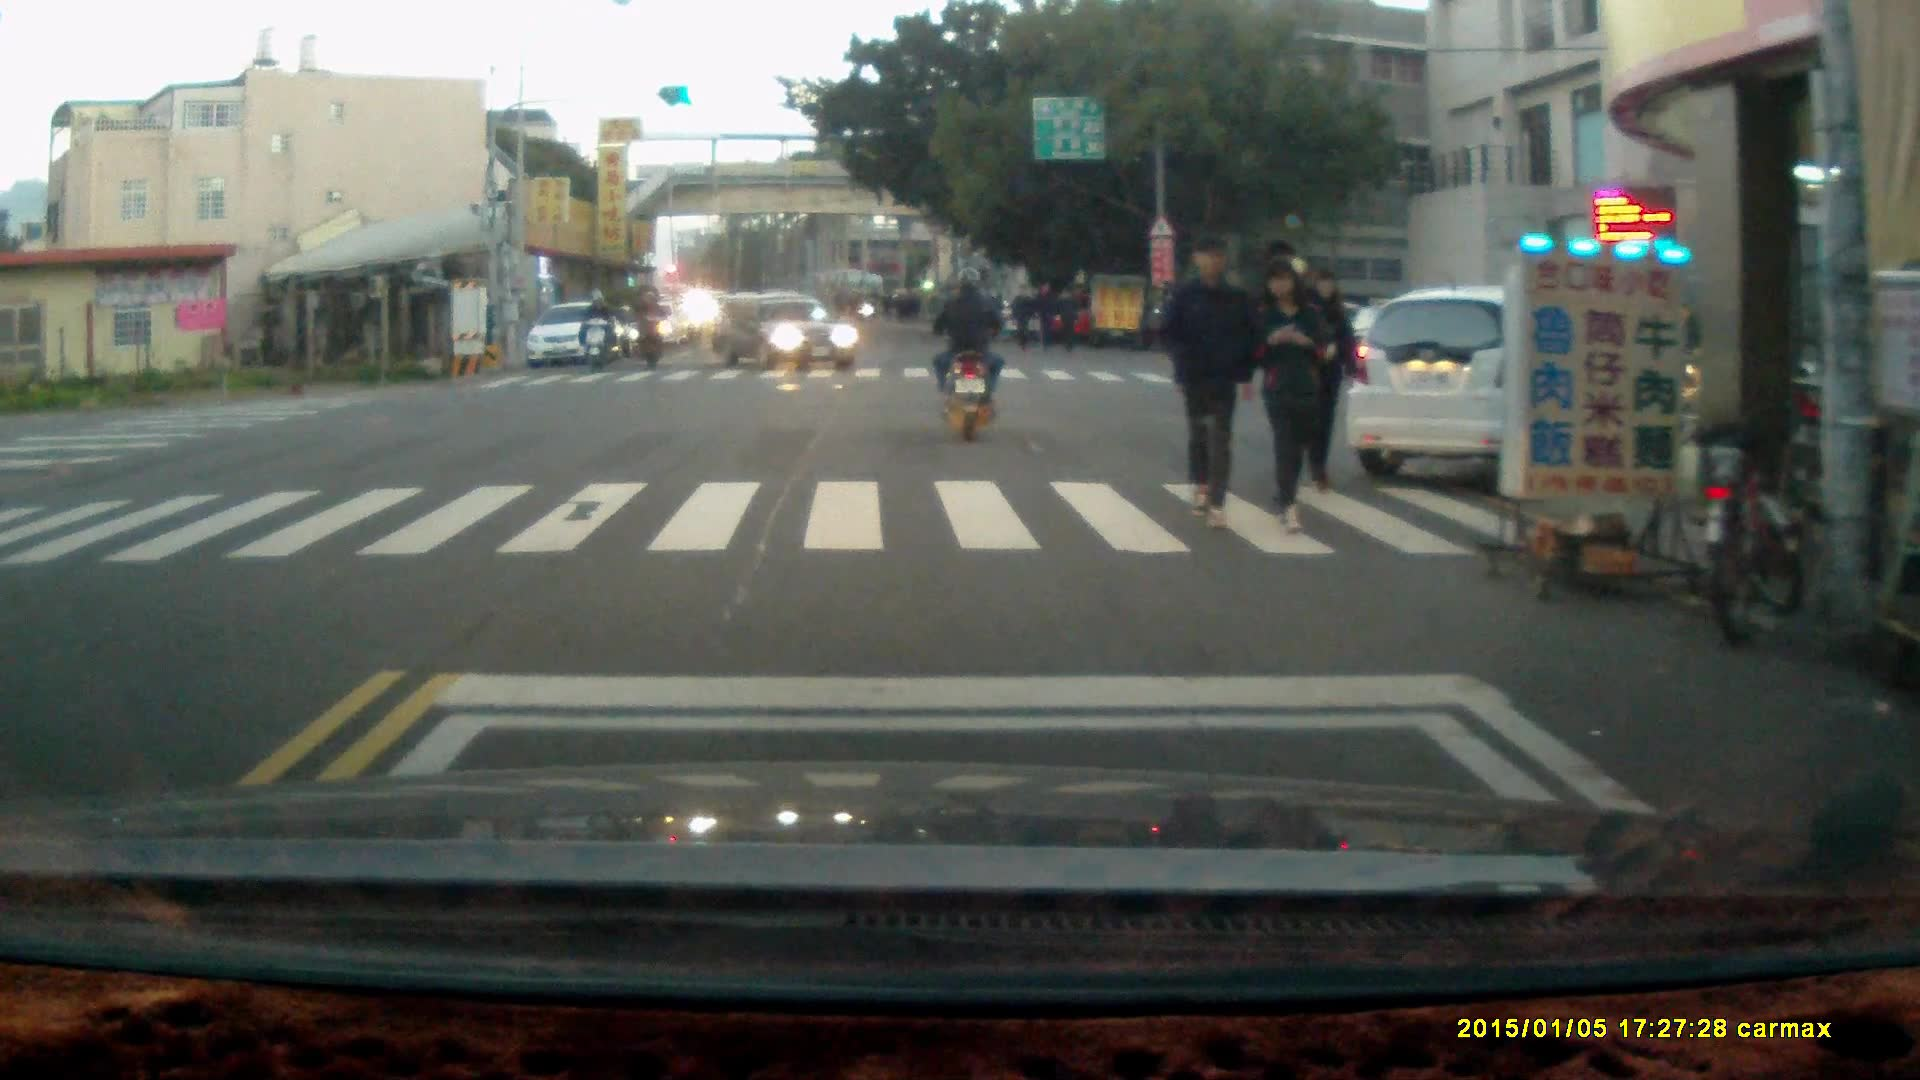pedestrian: (1157, 228, 1255, 529), (1251, 253, 1330, 529), (1671, 298, 1700, 388), (1052, 284, 1081, 353), (1032, 275, 1059, 352), (1010, 279, 1035, 349)
rider: (933, 260, 1003, 442), (632, 282, 671, 368), (579, 283, 615, 368)
vehicle: (1355, 295, 1728, 493), (712, 285, 860, 375), (528, 303, 625, 369)
